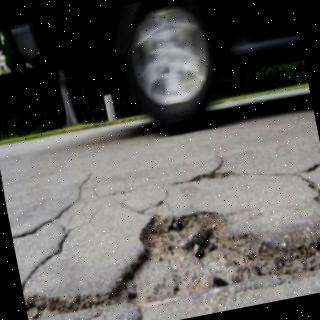pothole: (24, 211, 320, 320)
